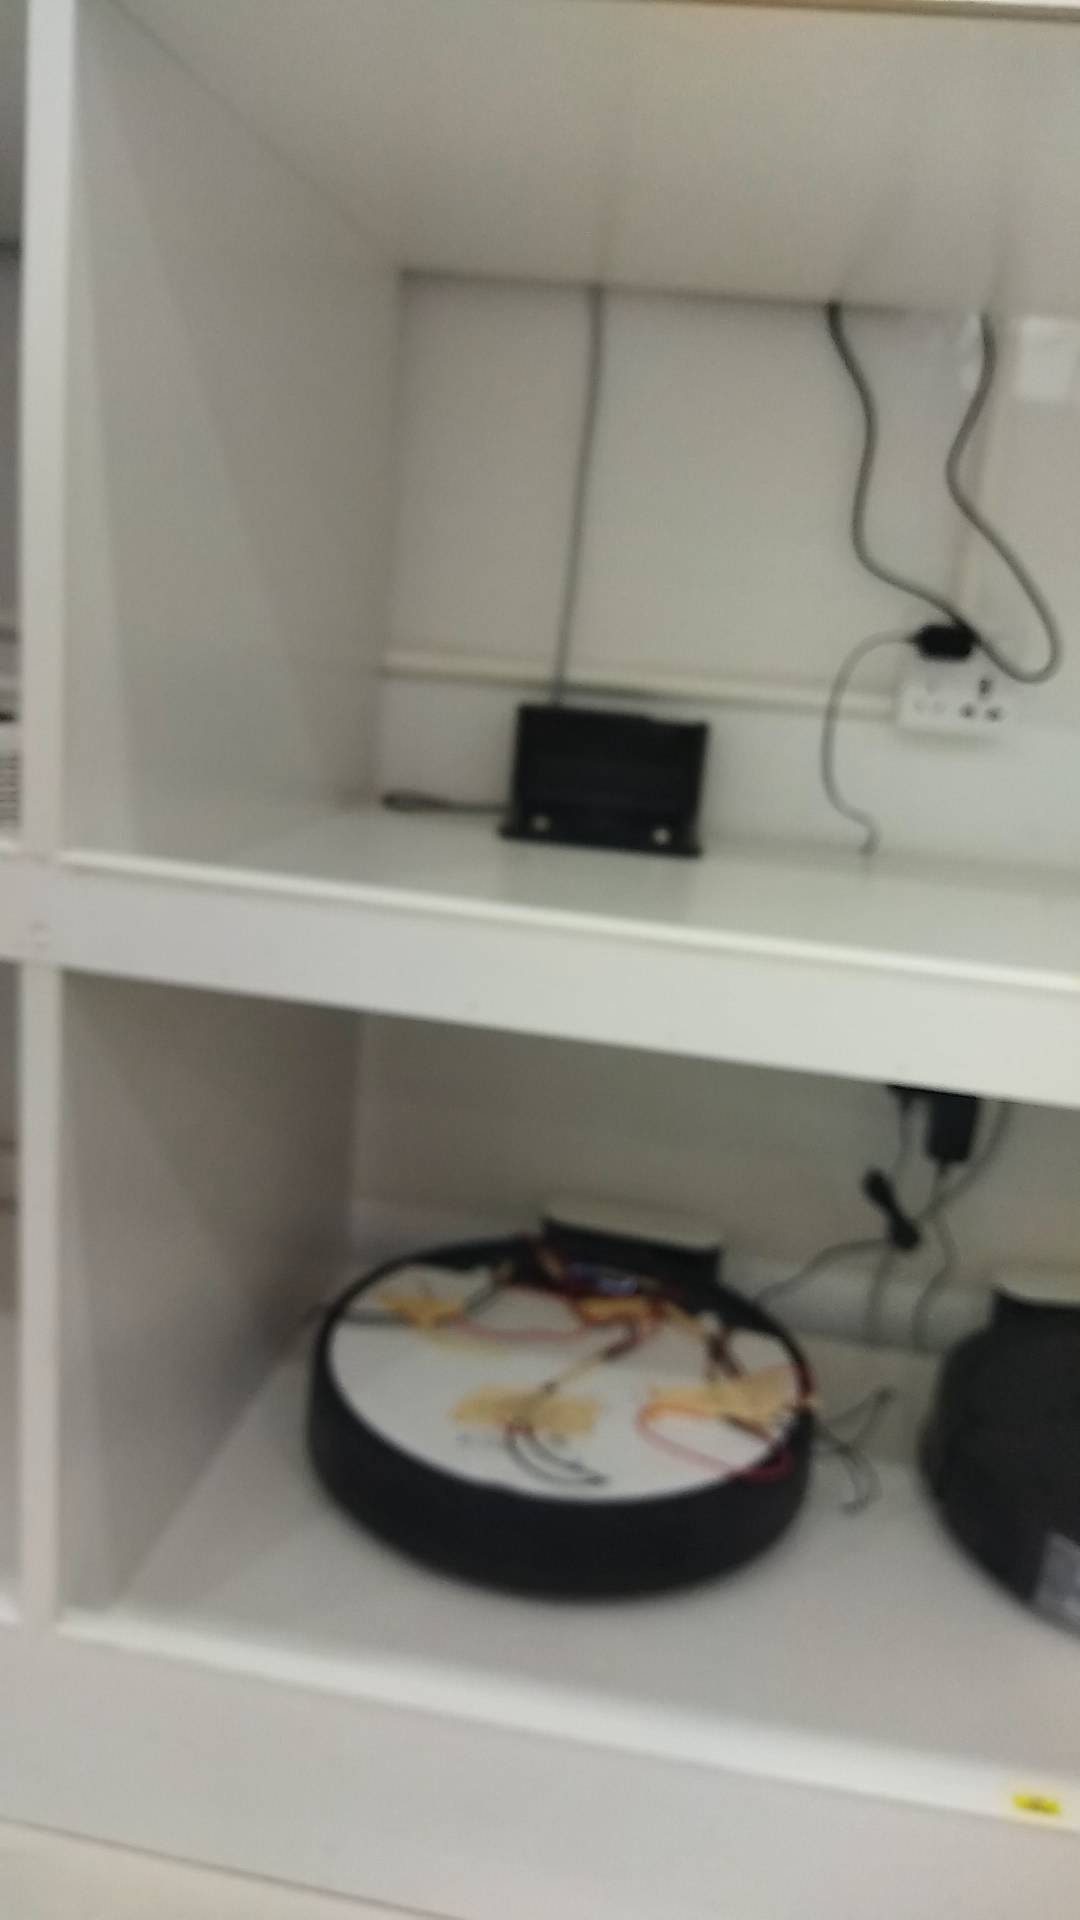recharge seat: (498, 698, 716, 855), (541, 1182, 735, 1295)
